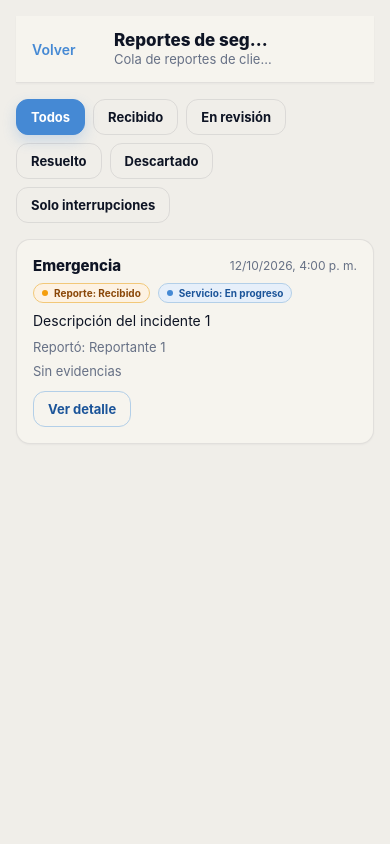
AdminSecurityReportsScreen — detalle › muestra historial auditable, evidencias y las dos etiquetas de estado
The width and height of the screenshot is (390, 844).
Expected: the text "Descripción del incidente 1" is shown, [33,312,210,329]
What coordinates should you click on to do the following:
click the text "Ver detalle"
I would click on:
 (82, 409)
Its box is [48,401,116,417].
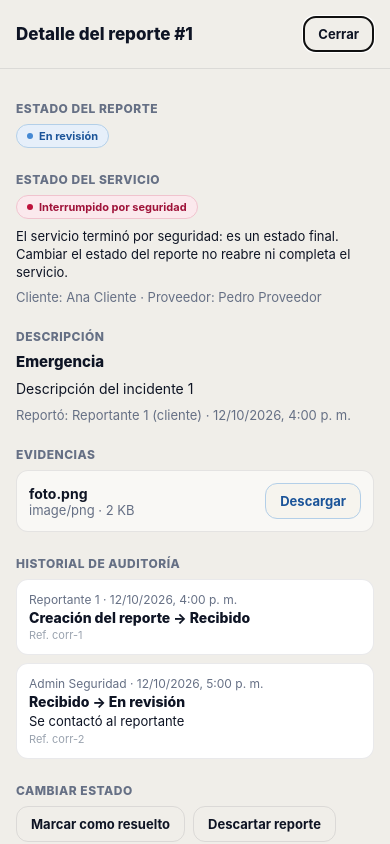
Expected: the text "Estado del reporte" is shown, [16,101,158,116]
Expected: the text "Estado del servicio" is shown, [16,172,160,187]
Expected: the text "En revisión" is shown, [39,129,98,143]
